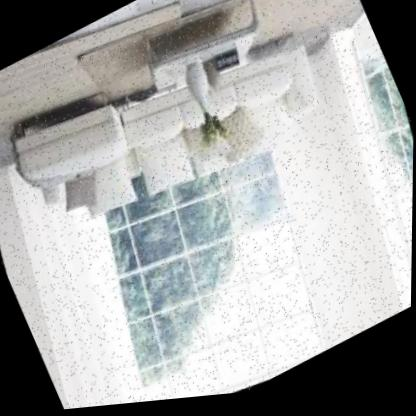Sofa: (0, 0, 364, 309)
